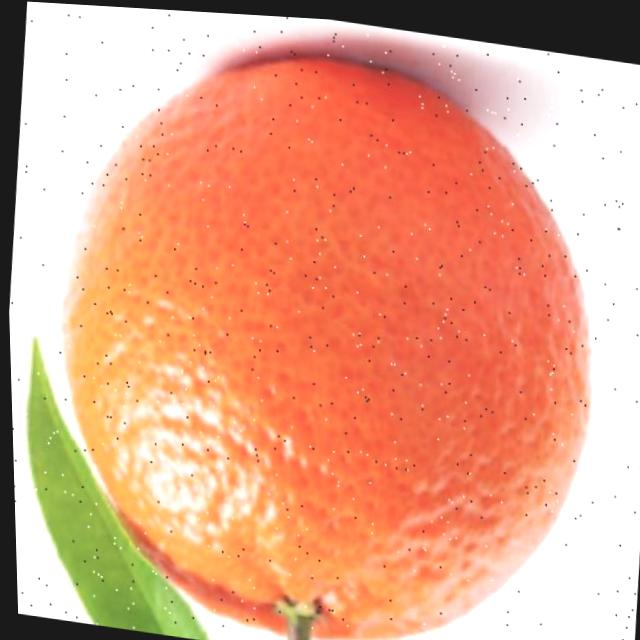Orange: (23, 15, 621, 640)
